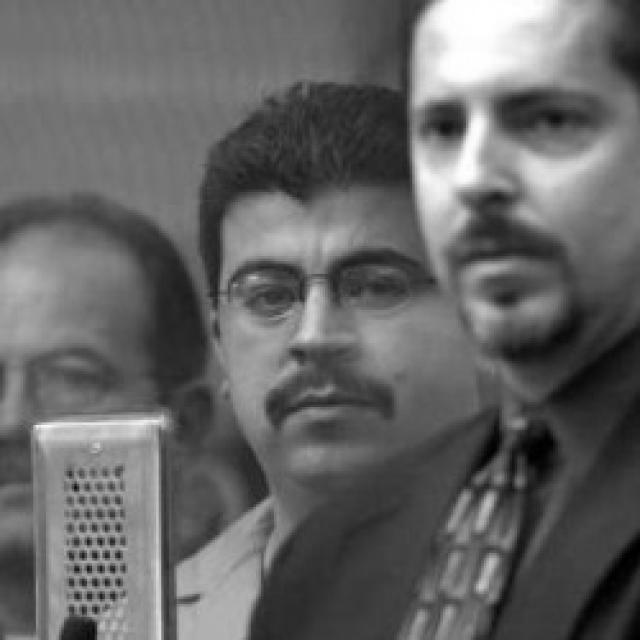real: (218, 74, 444, 492), (405, 2, 640, 390), (242, 262, 396, 325), (419, 101, 611, 150)
